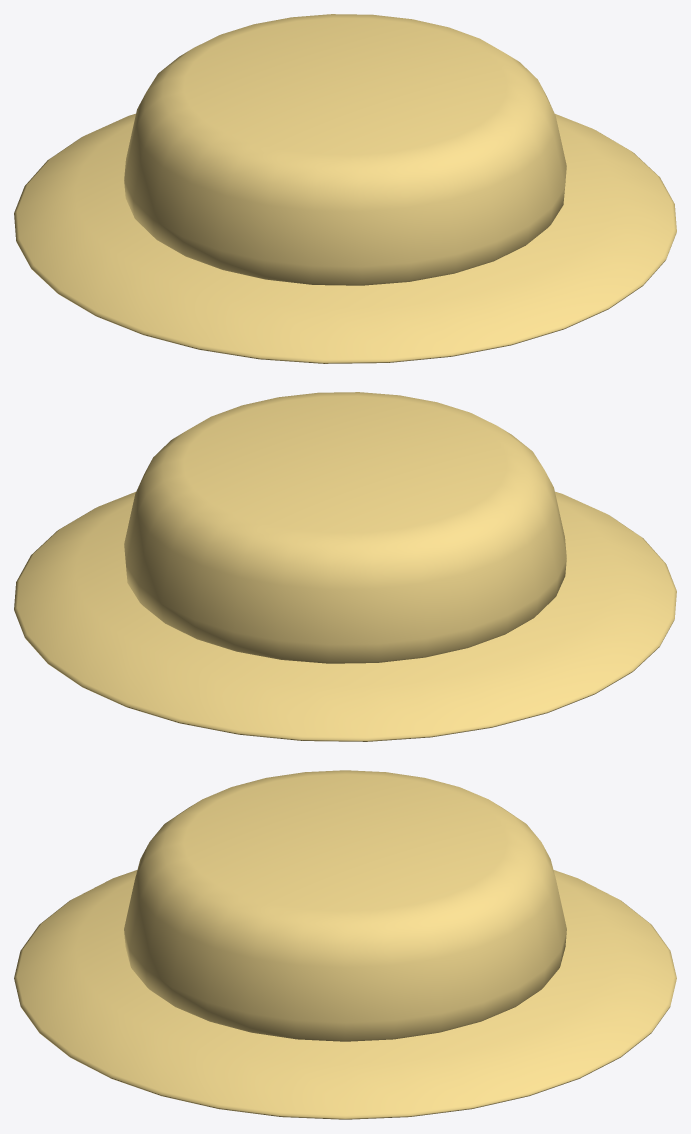
The model's file is Acc_Bucket.fbx.
3 views of the same model, one above another, from view 1: azimuth 30°, elevation 25°; view 2: azimuth 150°, elevation 25°; view 3: azimuth 270°, elevation 25° (orthographic).
Visible parts, largest first — view 1: Bucket_Hat, Bucket_Brim; view 2: Bucket_Hat, Bucket_Brim; view 3: Bucket_Hat, Bucket_Brim.
Boxes of the visible parts, x1=… form: Bucket_Hat: x1=124, y1=14, x2=566, y2=285; Bucket_Brim: x1=14, y1=113, x2=676, y2=363; Bucket_Hat: x1=124, y1=392, x2=566, y2=663; Bucket_Brim: x1=14, y1=491, x2=676, y2=741; Bucket_Hat: x1=124, y1=770, x2=566, y2=1041; Bucket_Brim: x1=14, y1=870, x2=676, y2=1119.
Bounding box in the file's own units: 98.25 × 22.5 × 98.25.
